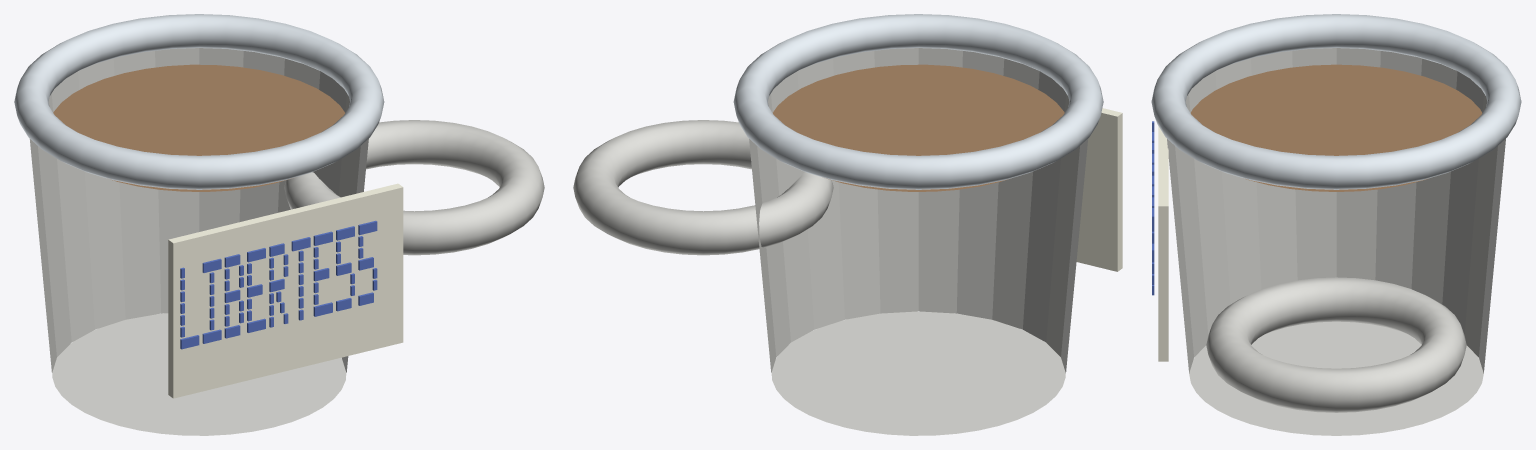
The model's file is coffee_mug_liberte55.glb.
3 views of the same model, side by side, from view 1: azimuth 30°, elevation 25°; view 2: azimuth 150°, elevation 25°; view 3: azimuth 270°, elevation 25° (orthographic).
Parts seen in each view (by area): view 1: printed_plate_white_print_5, cup_wall_ceramic_1, lip_chrome_2, coffee_wood_oiled_4, cup_base_ceramic_0, handle_ceramic_3, liberte55_ink_blue_print_6; view 2: cup_wall_ceramic_1, cup_base_ceramic_0, lip_chrome_2, coffee_wood_oiled_4, handle_ceramic_3, printed_plate_white_print_5; view 3: cup_wall_ceramic_1, lip_chrome_2, handle_ceramic_3, coffee_wood_oiled_4, cup_base_ceramic_0, printed_plate_white_print_5, liberte55_ink_blue_print_6.
Part boxes in pixels (box(x1,y1,x2,y2)): printed_plate_white_print_5: box(168, 183, 403, 398); cup_wall_ceramic_1: box(29, 48, 368, 372); lip_chrome_2: box(14, 14, 384, 189); coffee_wood_oiled_4: box(53, 64, 344, 191); cup_base_ceramic_0: box(52, 313, 346, 435); handle_ceramic_3: box(284, 120, 544, 255); liberte55_ink_blue_print_6: box(180, 220, 377, 349); cup_wall_ceramic_1: box(749, 48, 1087, 372); cup_base_ceramic_0: box(771, 311, 1065, 435); lip_chrome_2: box(733, 14, 1103, 189); coffee_wood_oiled_4: box(773, 64, 1064, 191); handle_ceramic_3: box(573, 120, 833, 255); printed_plate_white_print_5: box(1076, 108, 1122, 271); cup_wall_ceramic_1: box(1167, 48, 1505, 373); lip_chrome_2: box(1151, 14, 1521, 189); handle_ceramic_3: box(1206, 277, 1466, 412); coffee_wood_oiled_4: box(1190, 64, 1482, 191); cup_base_ceramic_0: box(1189, 321, 1483, 435); printed_plate_white_print_5: box(1158, 126, 1168, 361); liberte55_ink_blue_print_6: box(1152, 121, 1154, 295).
Bounding box in the file's own units: 0.329 × 0.1845 × 0.216.
